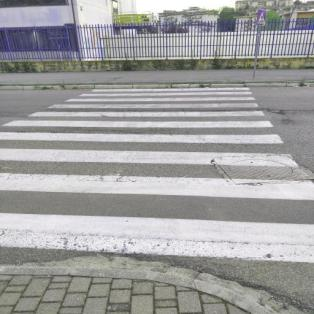Paso de Cebra: (0, 146, 314, 206), (22, 101, 271, 119), (75, 87, 259, 97)
